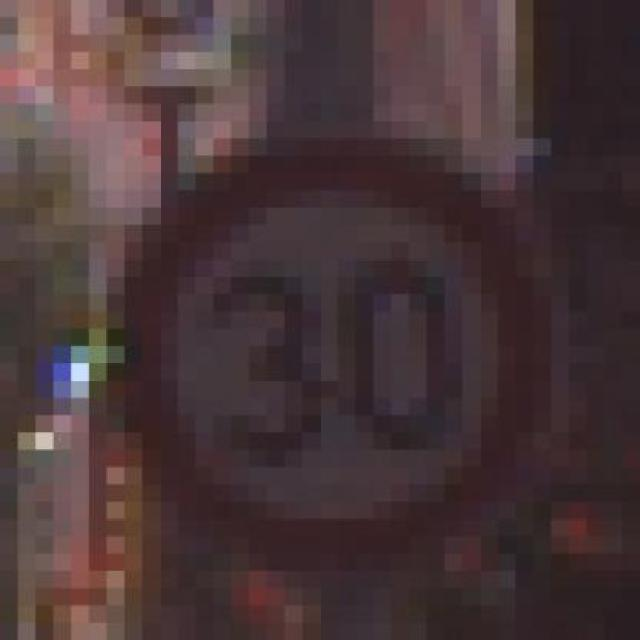Speed Limit 30 KMPh: (71, 69, 569, 571)
